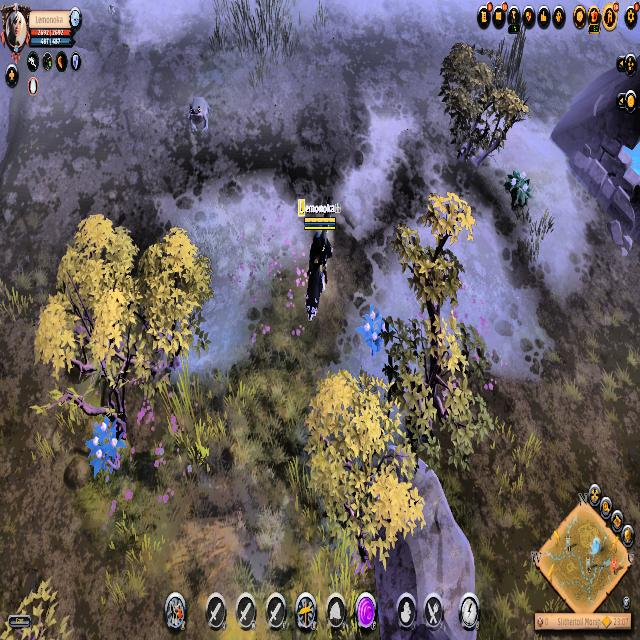fiber tier 3: (503, 161, 532, 217)
fiber tier 4: (84, 413, 128, 482), (357, 302, 394, 361)
